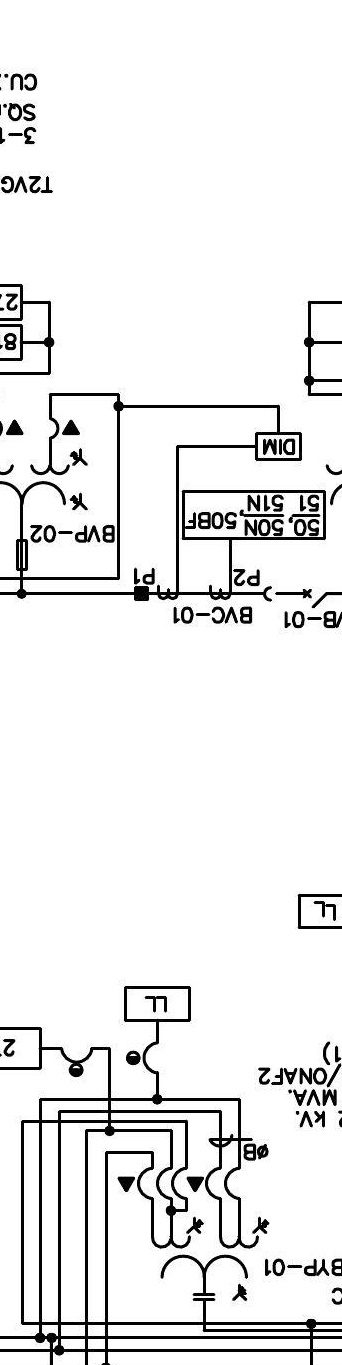115_cvt_3p: (150, 1216, 270, 1301)
DIM: (255, 432, 302, 461)
LL: (124, 986, 191, 1022)
